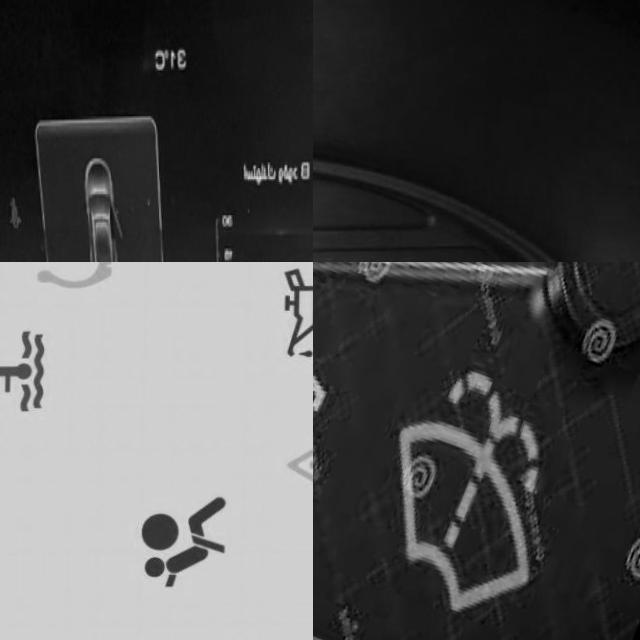Washer Fluid: (400, 370, 545, 615)
